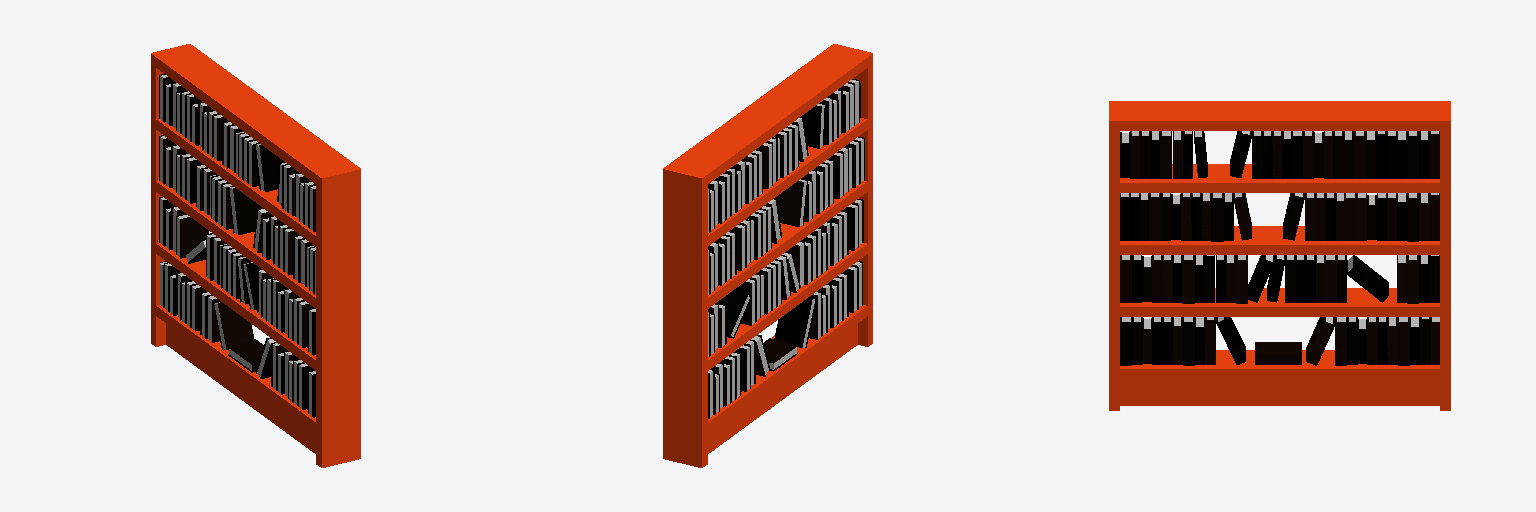
The model's file is RepisaLibros.obj.
3 views of the same model, side by side, from view 1: azimuth 30°, elevation 25°; view 2: azimuth 150°, elevation 25°; view 3: azimuth 270°, elevation 25° (orthographic).
Visible parts, largest first — view 1: Cube, Cube.069, Cube.046, Cube.015, Cube.099, Cube.012; view 2: Cube, Cube.046, Cube.069, Cube.015, Cube.099, Cube.012; view 3: Cube, Cube.069, Cube.046, Cube.015, Cube.099, Cube.012.
Boxes of the visible parts, box(x1,y1,x2,y2) form: Cube: box(151, 44, 360, 467); Cube.069: box(159, 74, 315, 402); Cube.046: box(164, 90, 315, 417); Cube.015: box(159, 82, 315, 417); Cube.099: box(160, 114, 307, 409); Cube.012: box(164, 82, 315, 409); Cube: box(663, 44, 872, 467); Cube.046: box(710, 83, 864, 413); Cube.069: box(708, 79, 863, 407); Cube.015: box(708, 82, 858, 417); Cube.099: box(708, 99, 849, 418); Cube.012: box(710, 89, 859, 391); Cube: box(1109, 101, 1450, 410); Cube.069: box(1120, 131, 1439, 365); Cube.046: box(1120, 131, 1429, 365); Cube.015: box(1132, 131, 1439, 365); Cube.099: box(1143, 131, 1439, 365); Cube.012: box(1130, 131, 1429, 364).
Bounding box in the file's own units: 0.4 × 2.8 × 3.